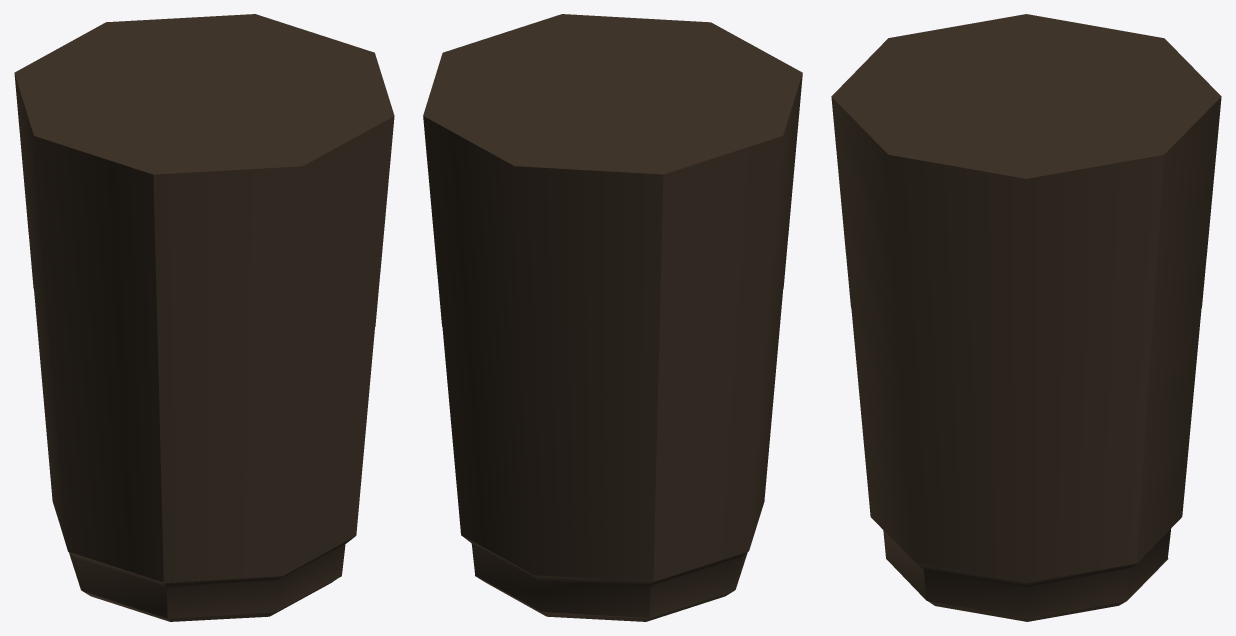
The model's file is cola.fbx.
The picture shows the model from 3 angles, left to right: view 1: azimuth 30°, elevation 25°; view 2: azimuth 150°, elevation 25°; view 3: azimuth 270°, elevation 25°; orthographic projection.
Parts seen in each view (by area): view 1: Fill_Top8, Fill_Top1, Fill_Top2, Fill_Top3, Fill_Top5, Fill_Top6, Fill_Top4, Fill_Top7, Fill_Middle, Fill_Bottom; view 2: Fill_Top8, Fill_Top1, Fill_Top2, Fill_Top3, Fill_Top5, Fill_Top6, Fill_Top4, Fill_Top7, Fill_Middle, Fill_Bottom; view 3: Fill_Top8, Fill_Top1, Fill_Top2, Fill_Top3, Fill_Top5, Fill_Top6, Fill_Top4, Fill_Top7, Fill_Middle, Fill_Bottom.
Part boxes in pixels (<box>): Fill_Top8: <box>14,14,394,226</box>; Fill_Top1: <box>19,128,389,277</box>; Fill_Top2: <box>24,181,384,328</box>; Fill_Top3: <box>29,236,379,379</box>; Fill_Top5: <box>38,339,370,479</box>; Fill_Top6: <box>43,393,365,530</box>; Fill_Top4: <box>34,290,374,427</box>; Fill_Top7: <box>48,448,360,582</box>; Fill_Middle: <box>62,534,355,618</box>; Fill_Bottom: <box>69,553,336,621</box>; Fill_Top8: <box>423,14,802,225</box>; Fill_Top1: <box>428,128,797,277</box>; Fill_Top2: <box>432,181,793,328</box>; Fill_Top3: <box>437,236,788,379</box>; Fill_Top5: <box>447,340,778,478</box>; Fill_Top6: <box>451,393,773,530</box>; Fill_Top4: <box>442,291,782,427</box>; Fill_Top7: <box>456,447,769,581</box>; Fill_Middle: <box>461,501,764,617</box>; Fill_Bottom: <box>475,575,734,621</box>; Fill_Top8: <box>831,14,1221,229</box>; Fill_Top1: <box>836,150,1216,280</box>; Fill_Top2: <box>841,203,1211,331</box>; Fill_Top3: <box>846,256,1206,381</box>; Fill_Top5: <box>856,358,1196,480</box>; Fill_Top6: <box>861,411,1191,531</box>; Fill_Top4: <box>851,308,1201,429</box>; Fill_Top7: <box>865,464,1186,582</box>; Fill_Middle: <box>881,522,1176,618</box>; Fill_Bottom: <box>928,558,1168,621</box>.
Bounding box in the file's own units: 79.3 × 106 × 79.29.
Materials: 1 (1 with a texture image).
